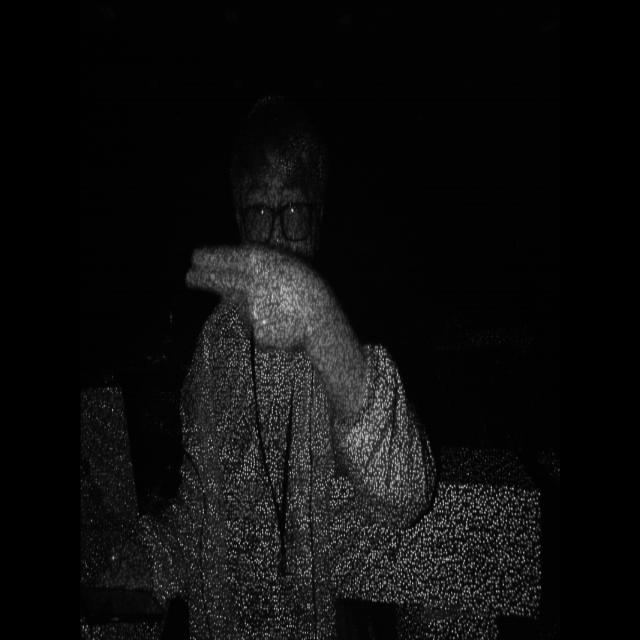H: (181, 226, 350, 362)
